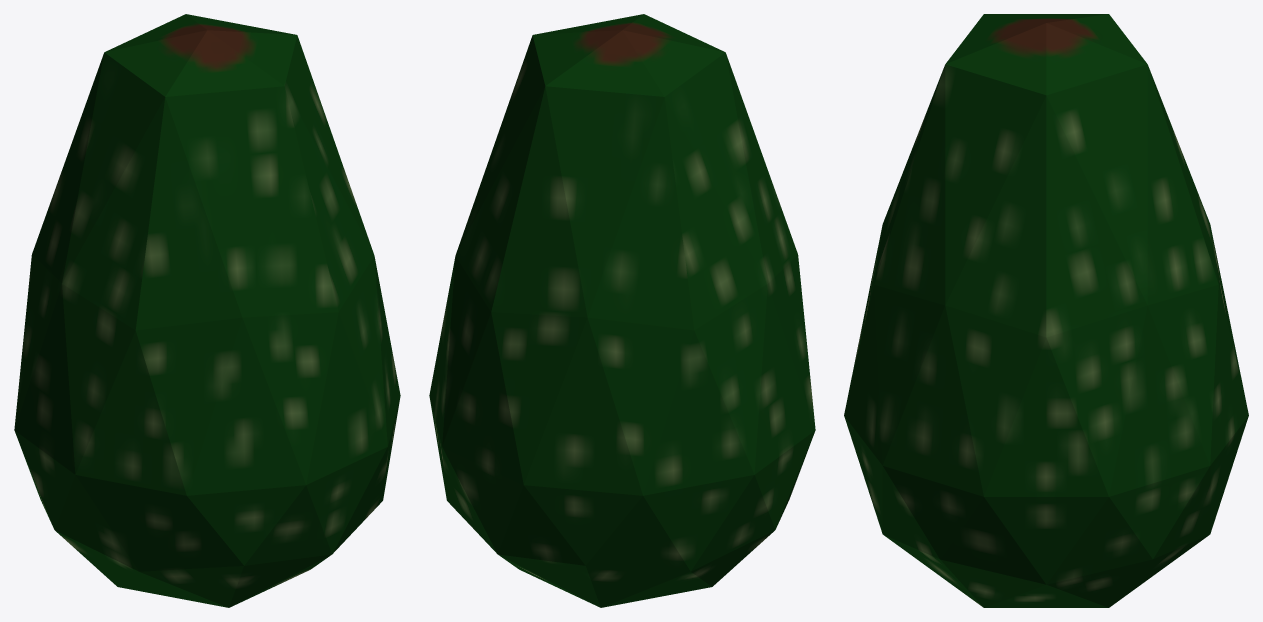
The model's file is avocado.glb.
The picture shows the model from 3 angles, left to right: view 1: azimuth 30°, elevation 25°; view 2: azimuth 150°, elevation 25°; view 3: azimuth 270°, elevation 25°; orthographic projection. The views are drawn at different scales.
Parts seen in each view (by area): view 1: Icosphere; view 2: Icosphere; view 3: Icosphere.
Part boxes in pixels (<box>): Icosphere: <box>14,14,400,607</box>; Icosphere: <box>429,14,815,607</box>; Icosphere: <box>844,14,1248,607</box>.
Bounding box in the file's own units: 1.9 × 3.14 × 2.
Materials: 1 (1 with a texture image).
